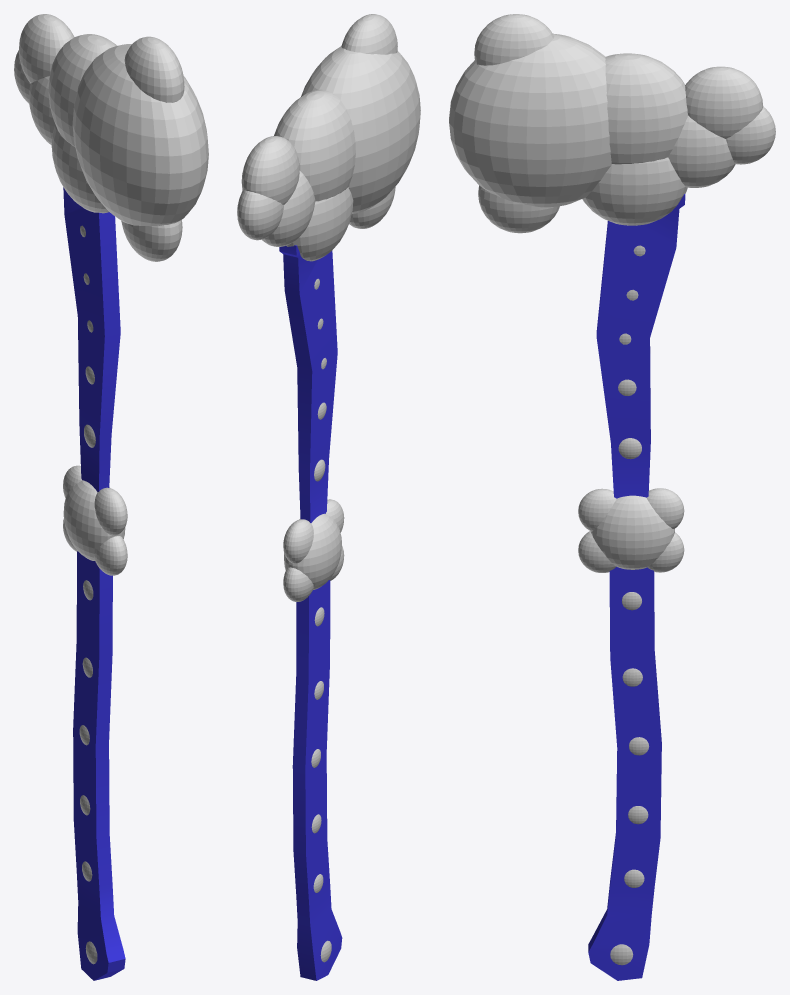
File: CloudAxe.fbx
3 views of the same model, side by side, from view 1: azimuth 30°, elevation 25°; view 2: azimuth 150°, elevation 25°; view 3: azimuth 270°, elevation 25° (orthographic). The views are drawn at different scales.
Visible parts, largest first — view 1: Cube.002; view 2: Cube.002; view 3: Cube.002.
Part boxes in pixels (bbox=[...]): Cube.002: bbox=[14, 14, 208, 980]; Cube.002: bbox=[237, 14, 420, 980]; Cube.002: bbox=[449, 14, 775, 980].
Bounding box in the file's own units: 0.2504 × 2.38 × 0.7325.
